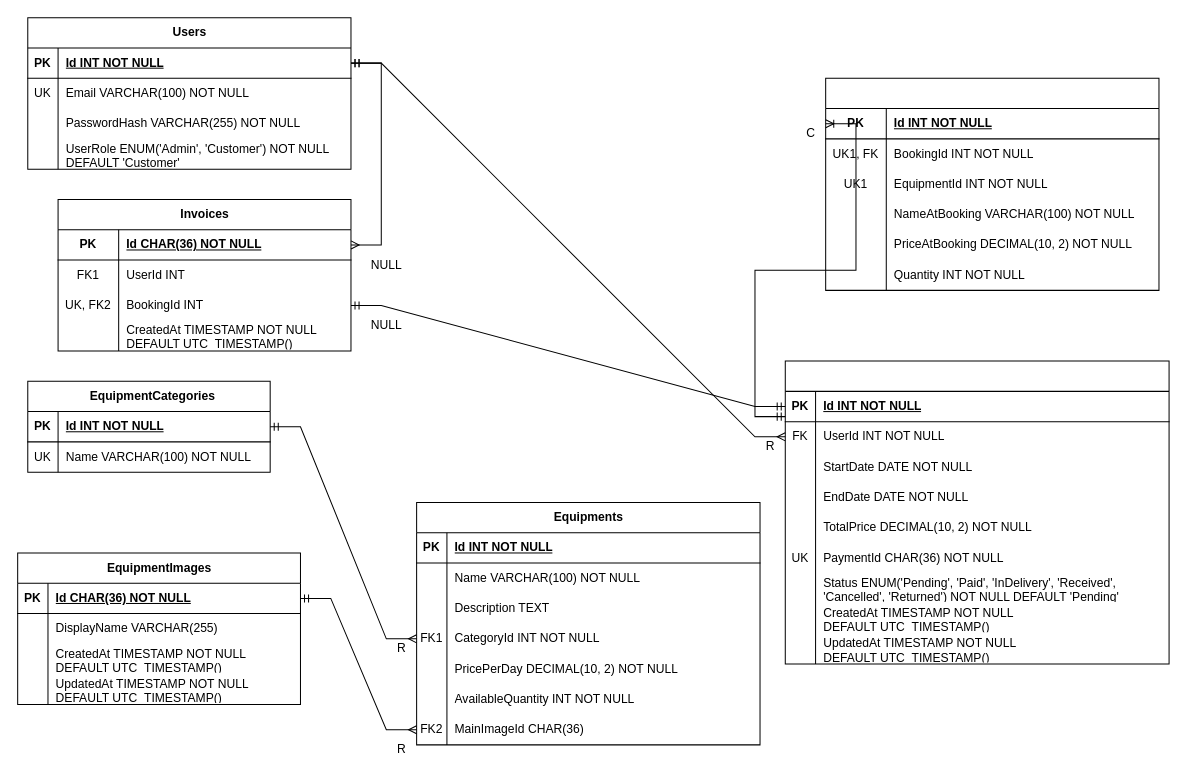
Image size: 1187x783. Some labels were removed from this diagram. The box of each missing label's shape, as (x1, y1, x2, y2) in pixels:
BookingItems: (825, 77, 1159, 290)
Bookings: (784, 360, 1169, 664)
